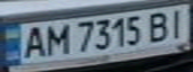1: (109, 15, 130, 47)
3: (90, 16, 112, 51)
5: (124, 12, 148, 46)
7: (69, 19, 97, 53)
A: (18, 24, 48, 60)
B: (145, 9, 175, 43)
I: (163, 6, 190, 38)
M: (42, 21, 69, 56)
